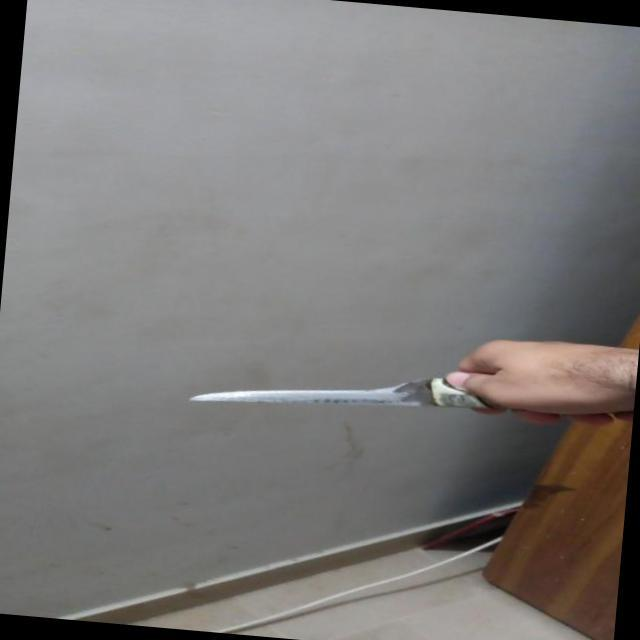Knife: (178, 348, 559, 442)
